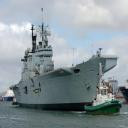Portanaves: (9, 6, 120, 113)
